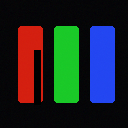4 line_v: (34, 50, 40, 104)
